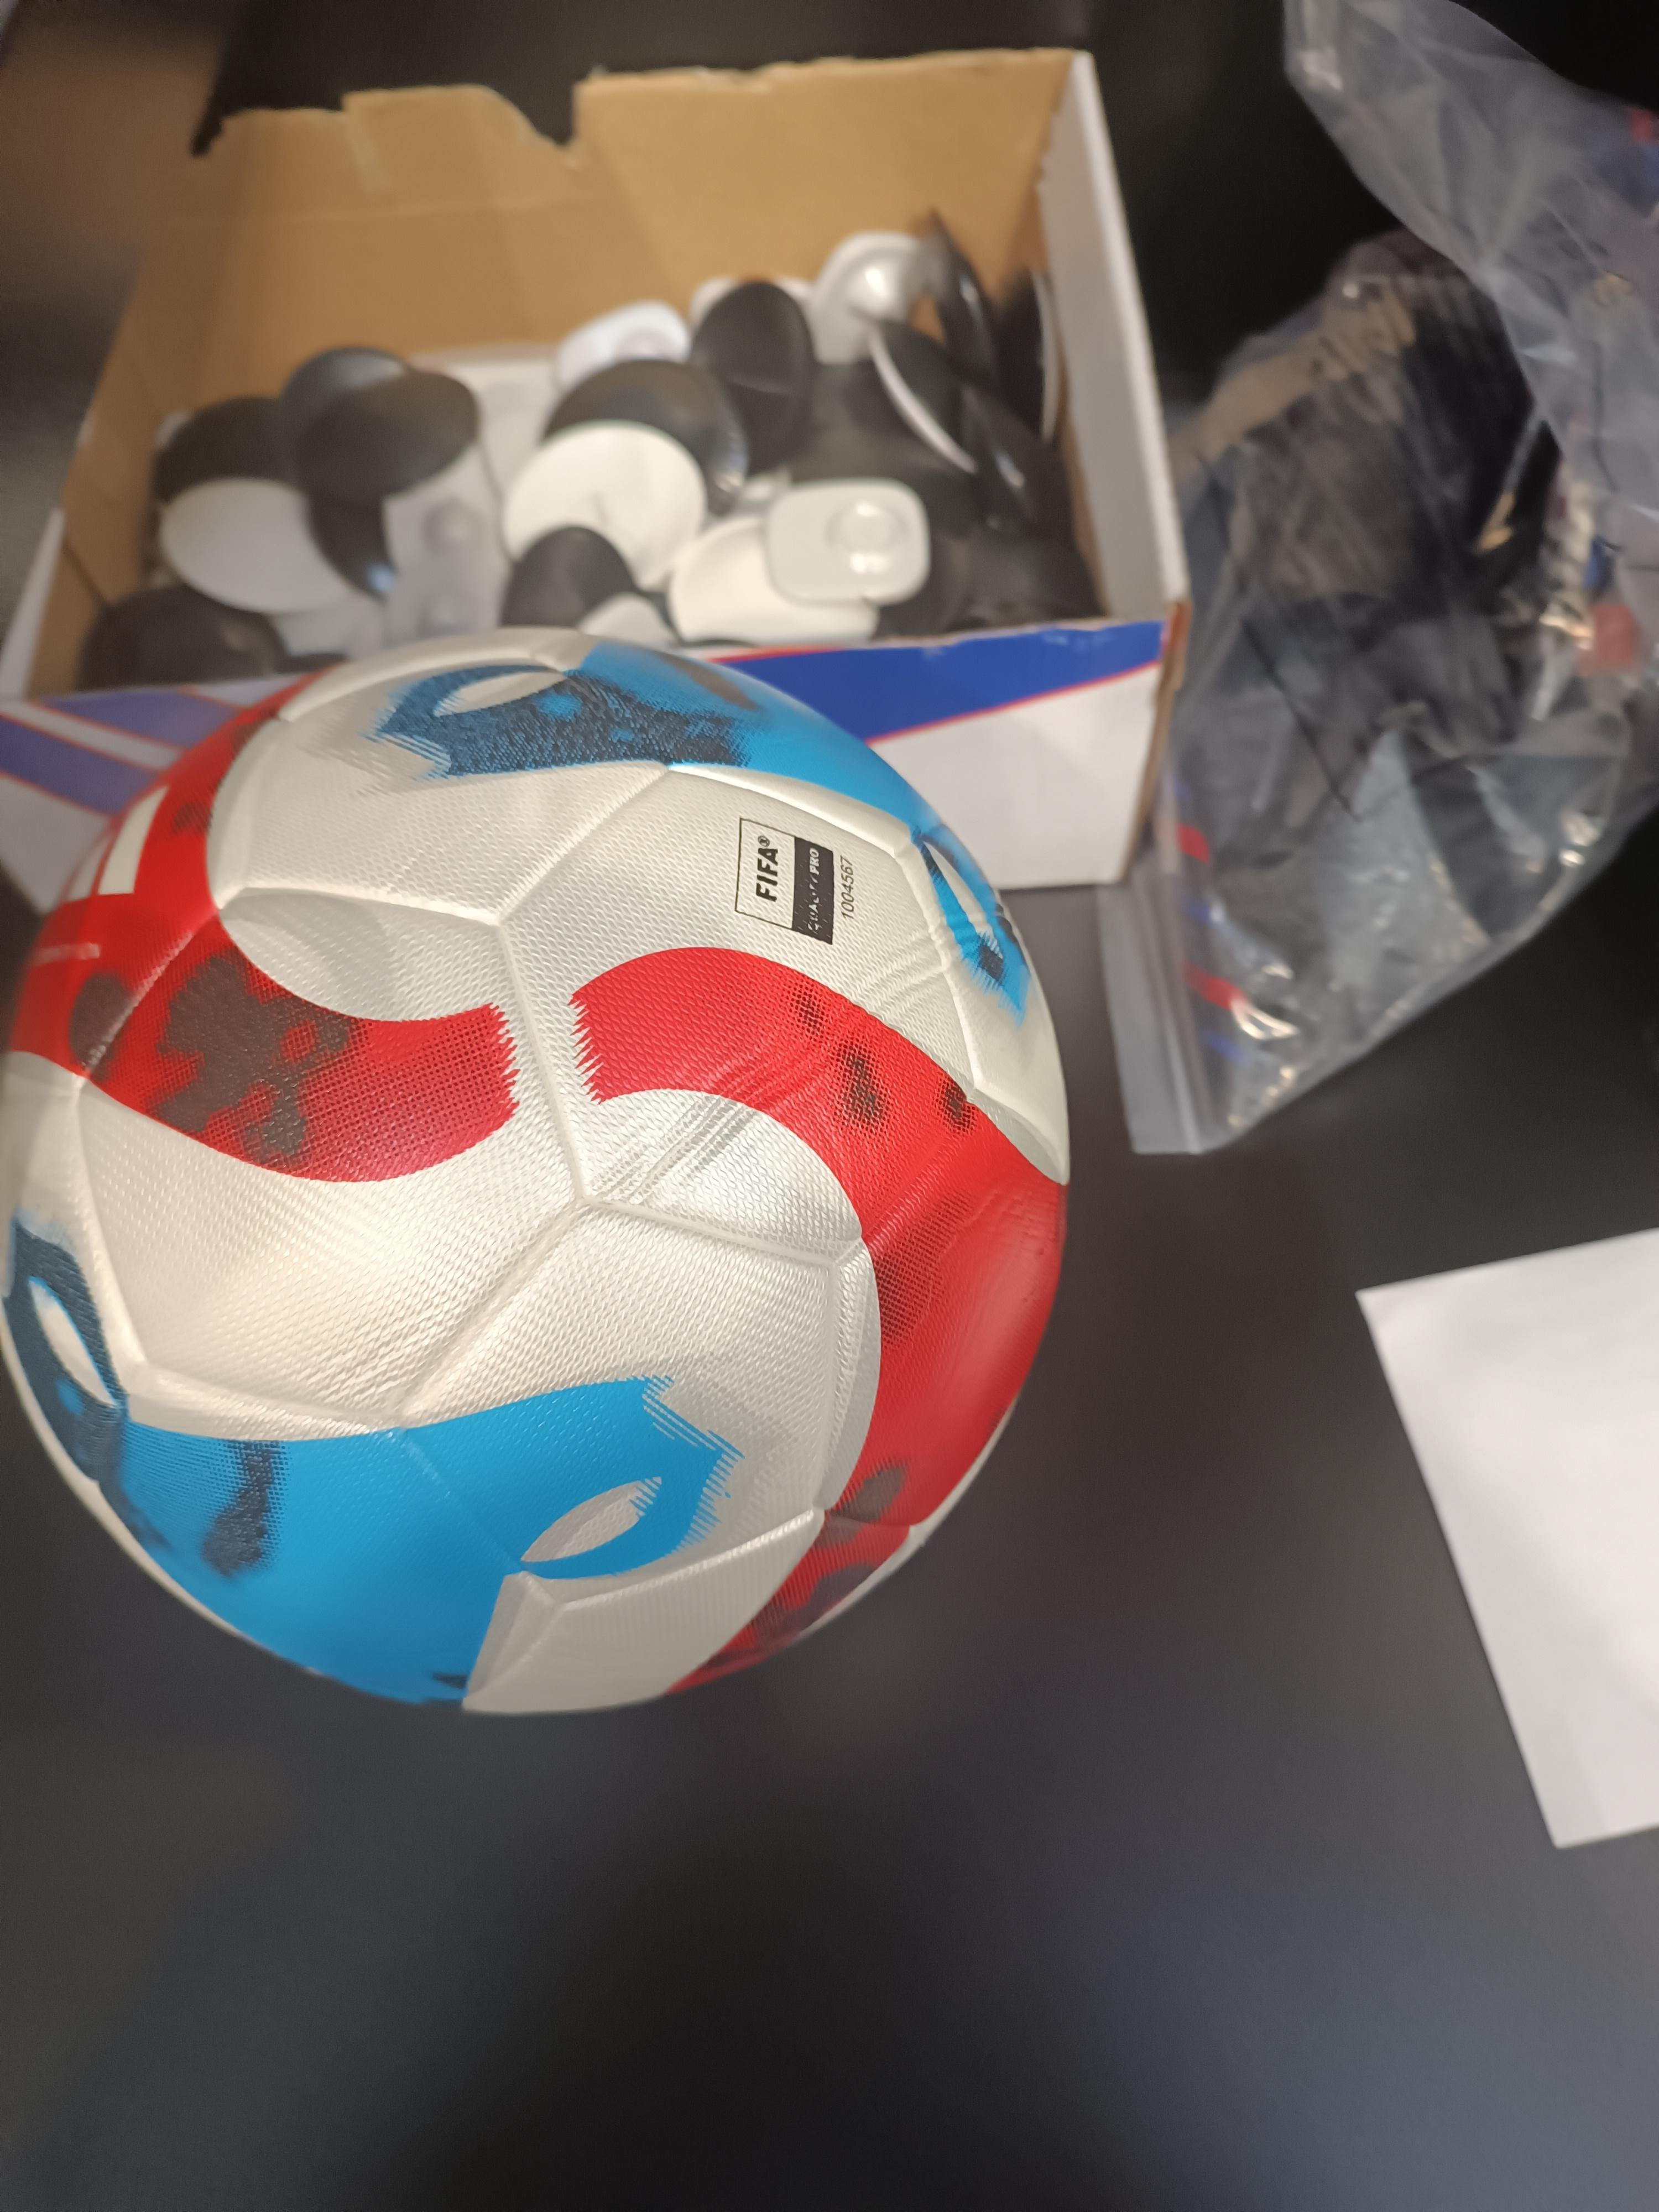Sports-Ball: (5, 631, 1066, 1710)
